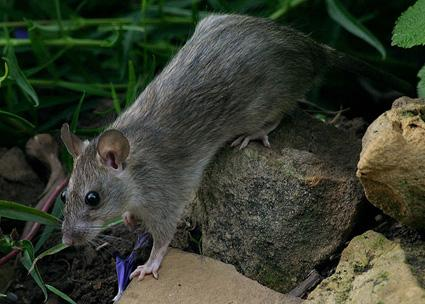rat: (61, 14, 341, 280)
